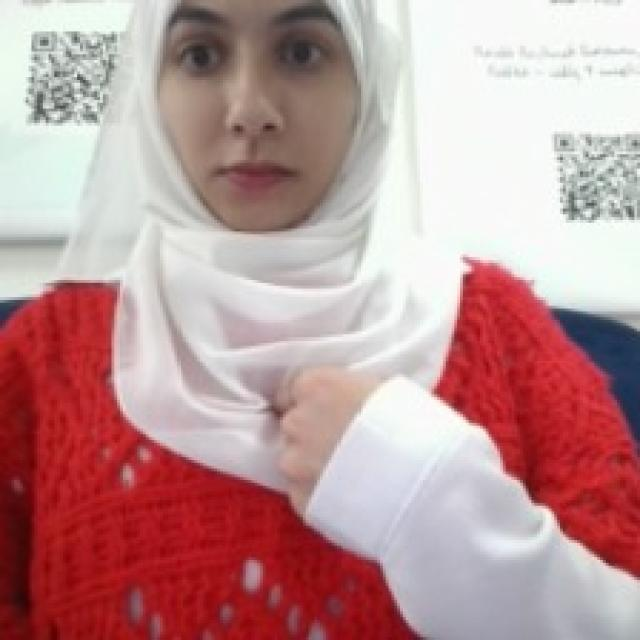me: (260, 356, 402, 534)
